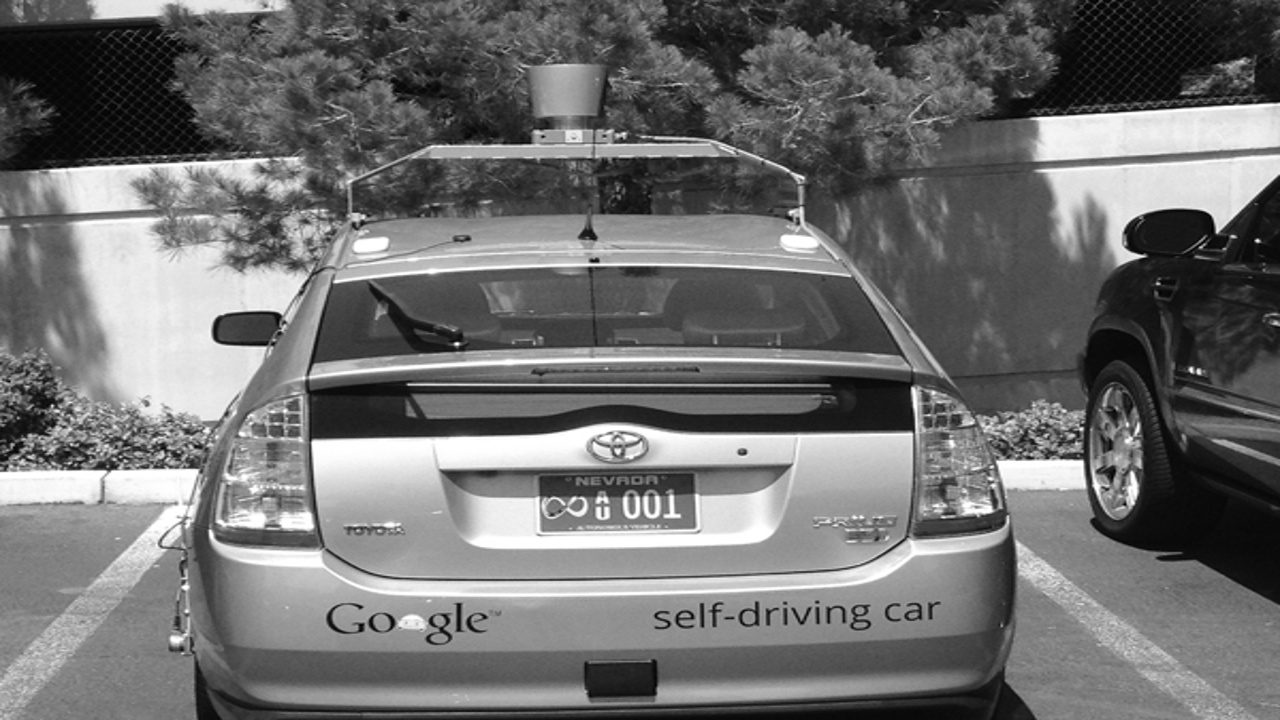license: (524, 469, 709, 540)
